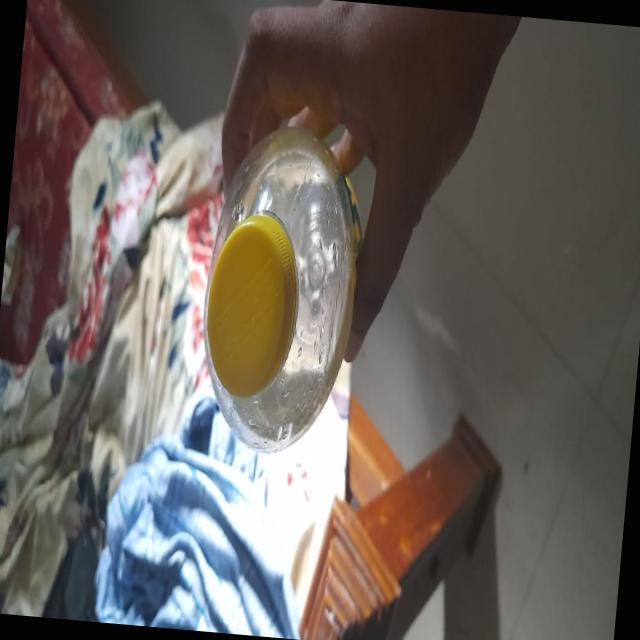Plastic - Recyclable: (190, 118, 372, 462)
